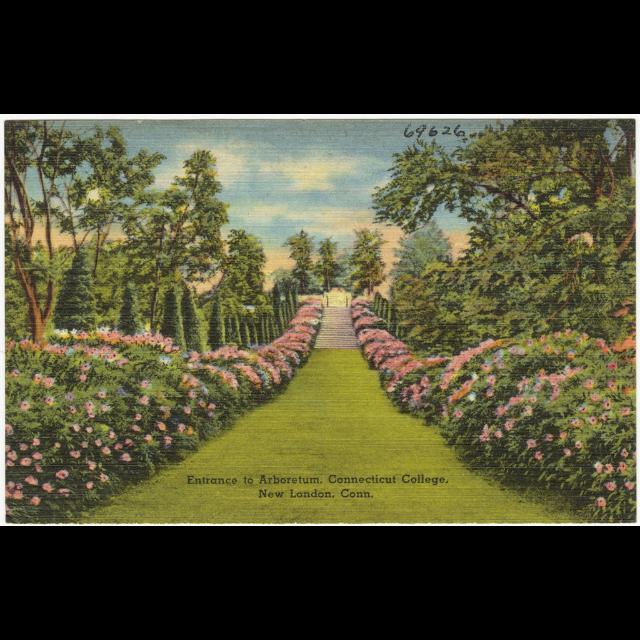Flower: (1, 296, 323, 526), (346, 300, 640, 526), (144, 434, 150, 440)
